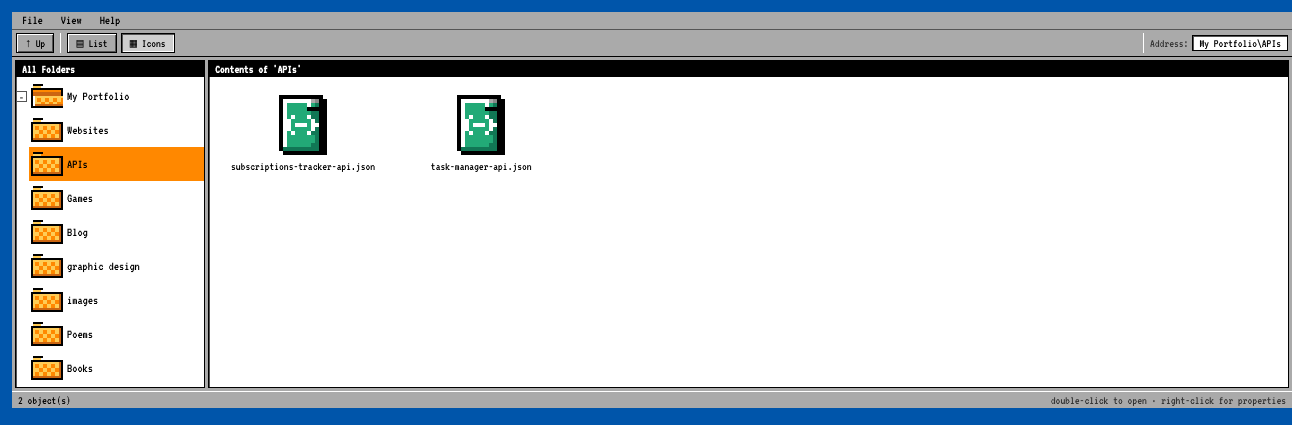
Explorer on the desktop › opens the file menu on right-click, without the pane's menu on top
This screenshot has width=1292, height=425.
Right-click the button "subscriptions-tracker-api.json" at point(303, 132), box [217, 85, 389, 180]
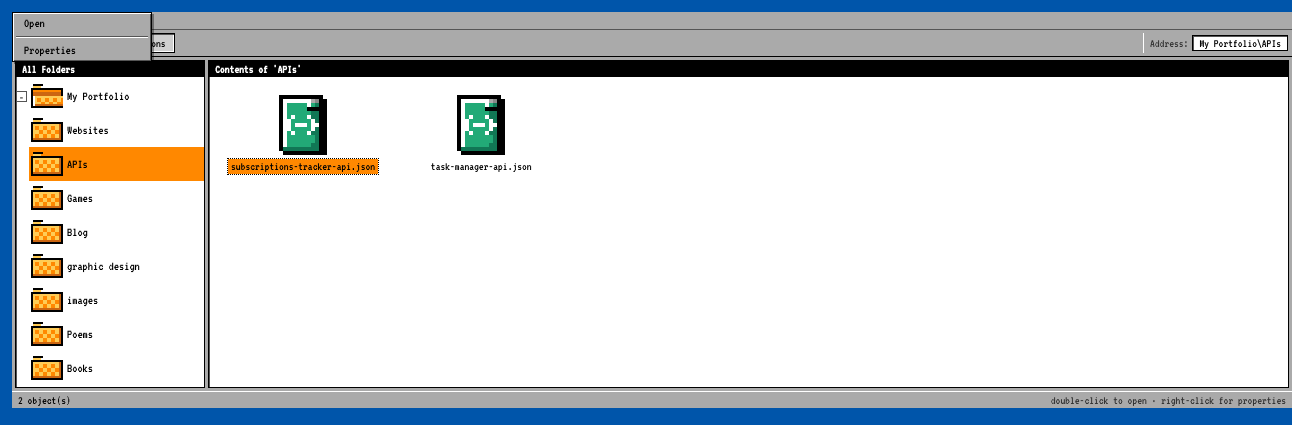
Now the menu item "Open" is shown, box [14, 14, 150, 33]
Now the menu item "Properties" is shown, box [14, 41, 150, 60]
